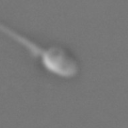abnormal: (1, 16, 44, 60)
